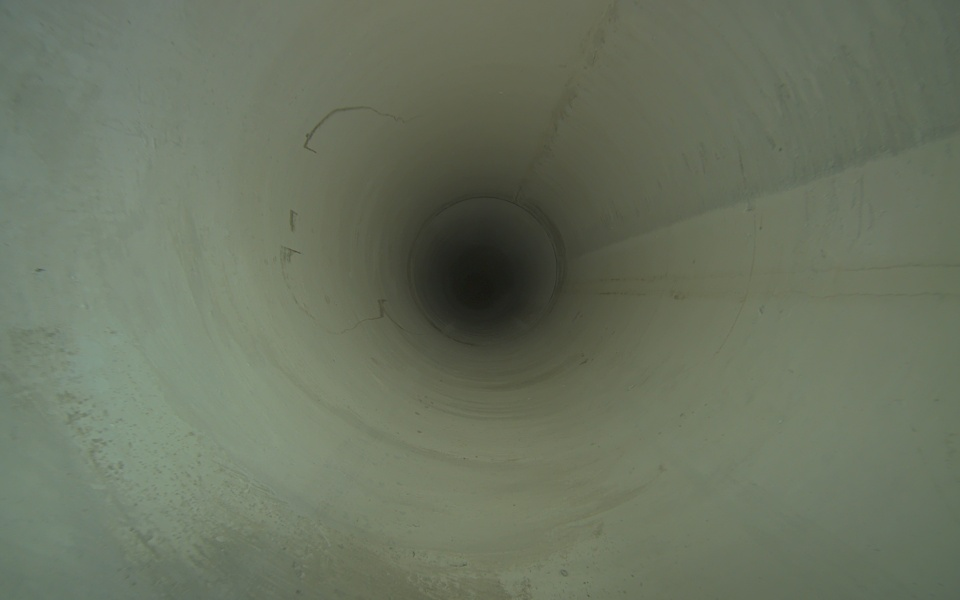circle1: (406, 192, 564, 349)
circle2: (458, 261, 508, 309)
